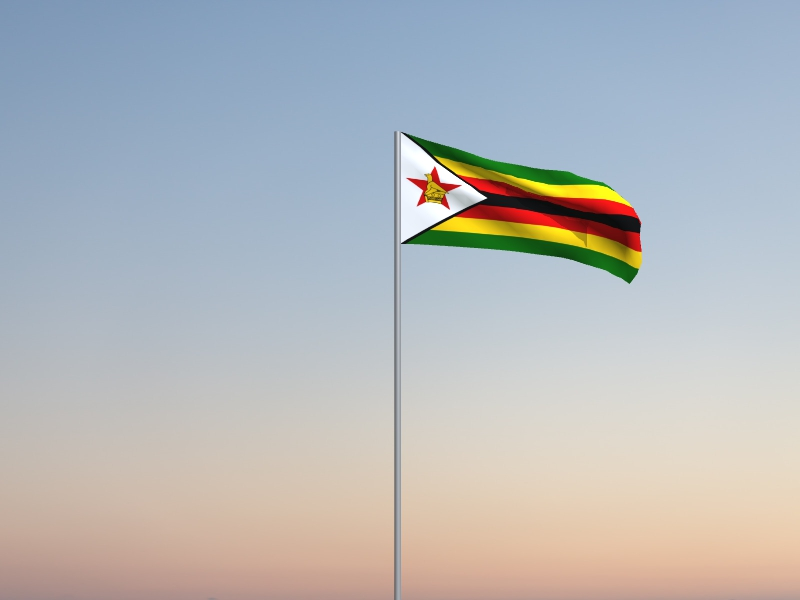zw: (401, 134, 642, 285)
